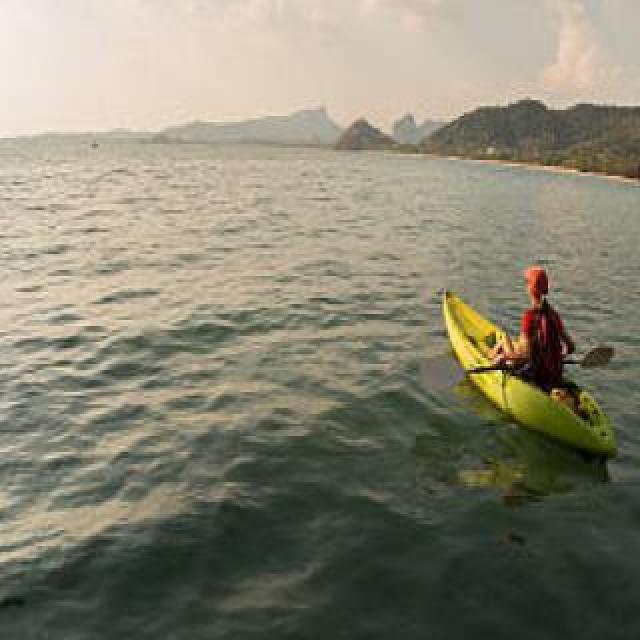kayak: (441, 289, 615, 452)
